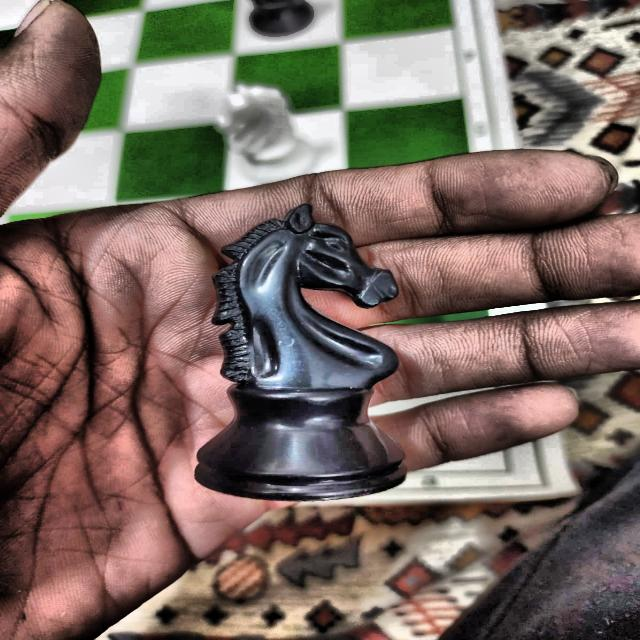BlackKnight: (192, 202, 410, 501)
